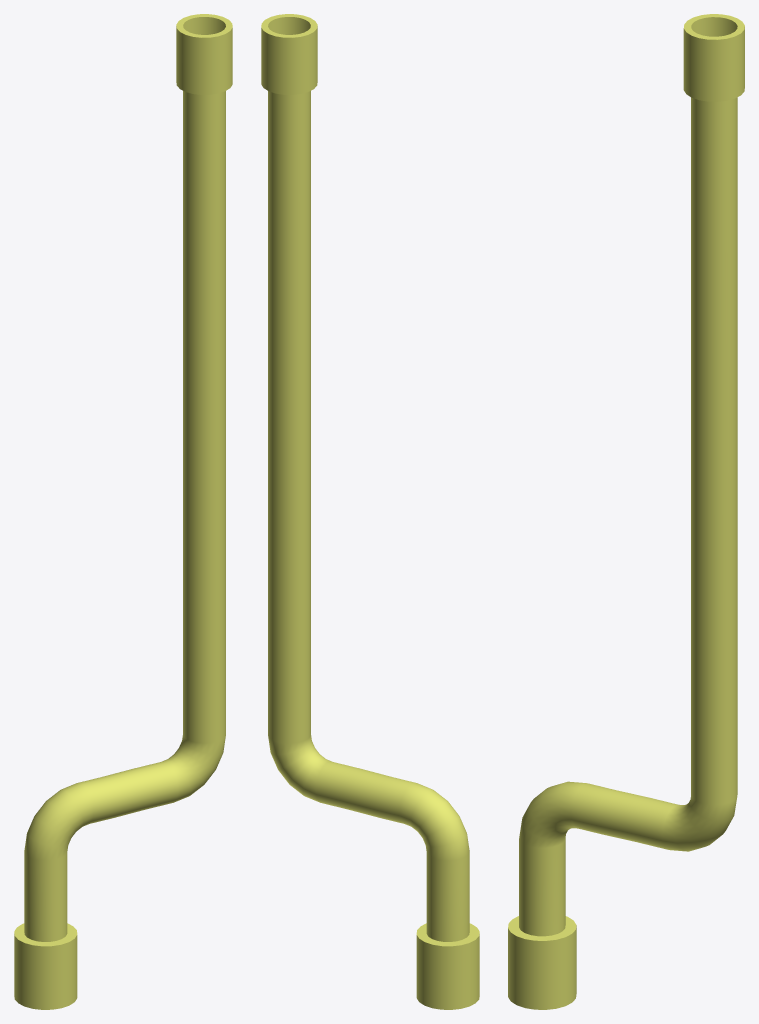
Rendered from Generator_Pipe_Vertical_Curved_4.fbx.
3 views of the same model, side by side, from view 1: azimuth 30°, elevation 25°; view 2: azimuth 150°, elevation 25°; view 3: azimuth 330°, elevation 25° (orthographic). The views are drawn at different scales.
Visible parts, largest first — view 1: Pipe_Vertical_Curved_4; view 2: Pipe_Vertical_Curved_4; view 3: Pipe_Vertical_Curved_4.
Part boxes in pixels (box(x1,y1,x2,y2)): Pipe_Vertical_Curved_4: box(14, 14, 232, 1009); Pipe_Vertical_Curved_4: box(261, 14, 479, 1009); Pipe_Vertical_Curved_4: box(508, 14, 744, 1009).
Bounding box in the file's own units: 178 × 753 × 46.5.
